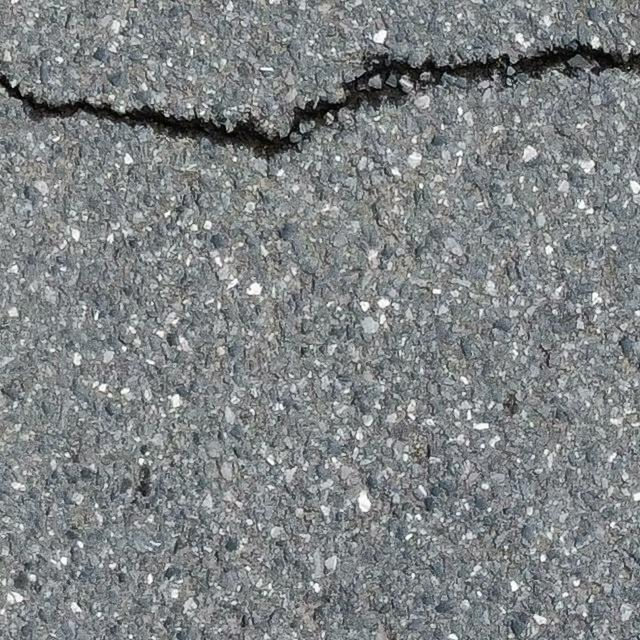TransverseCrack: (1, 38, 640, 160)
